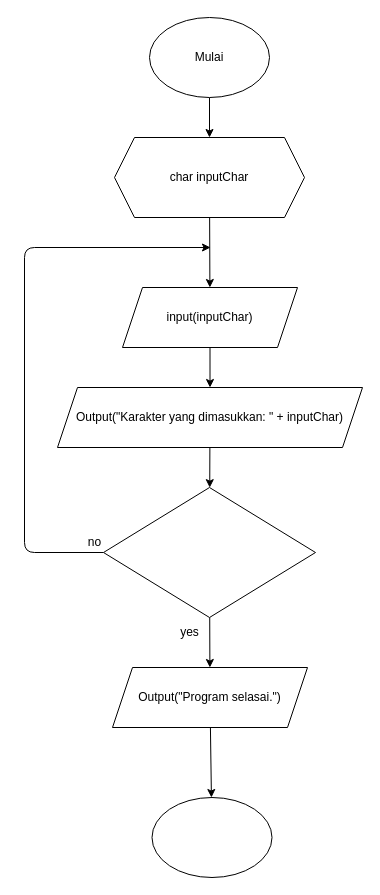
Image size: 380x895. Some labels were removed from this diagram. The centre of each missing label's shape, as x and y in pixels:
inputChar == 'x' || inputChar == 'X': the point at 209,552
Selesai: the point at 211,837
